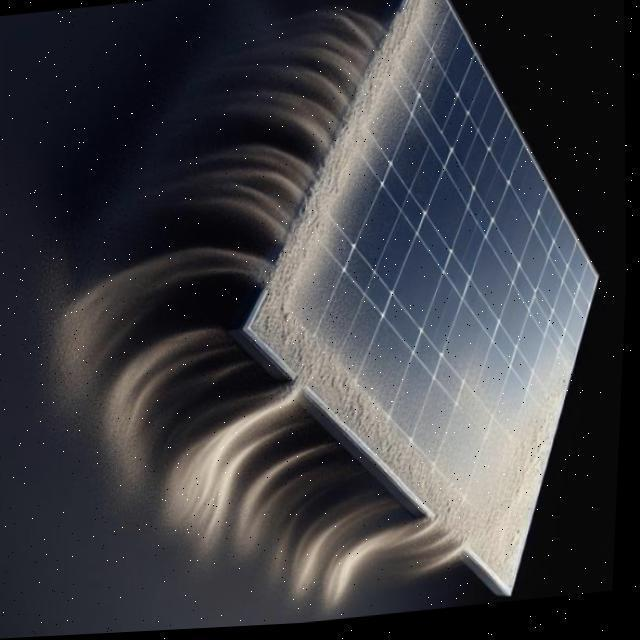Anomaly Solar Panel: (247, 0, 602, 602)
Surface Contaminant: (255, 0, 604, 597)
